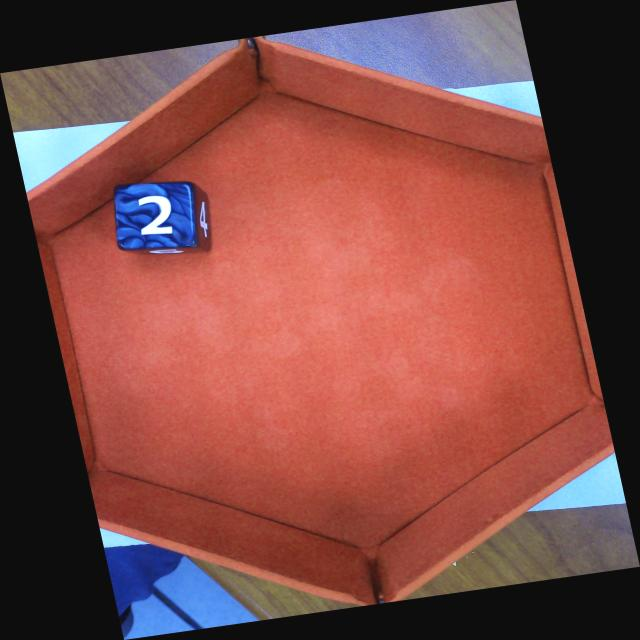dice: (112, 180, 199, 251)
